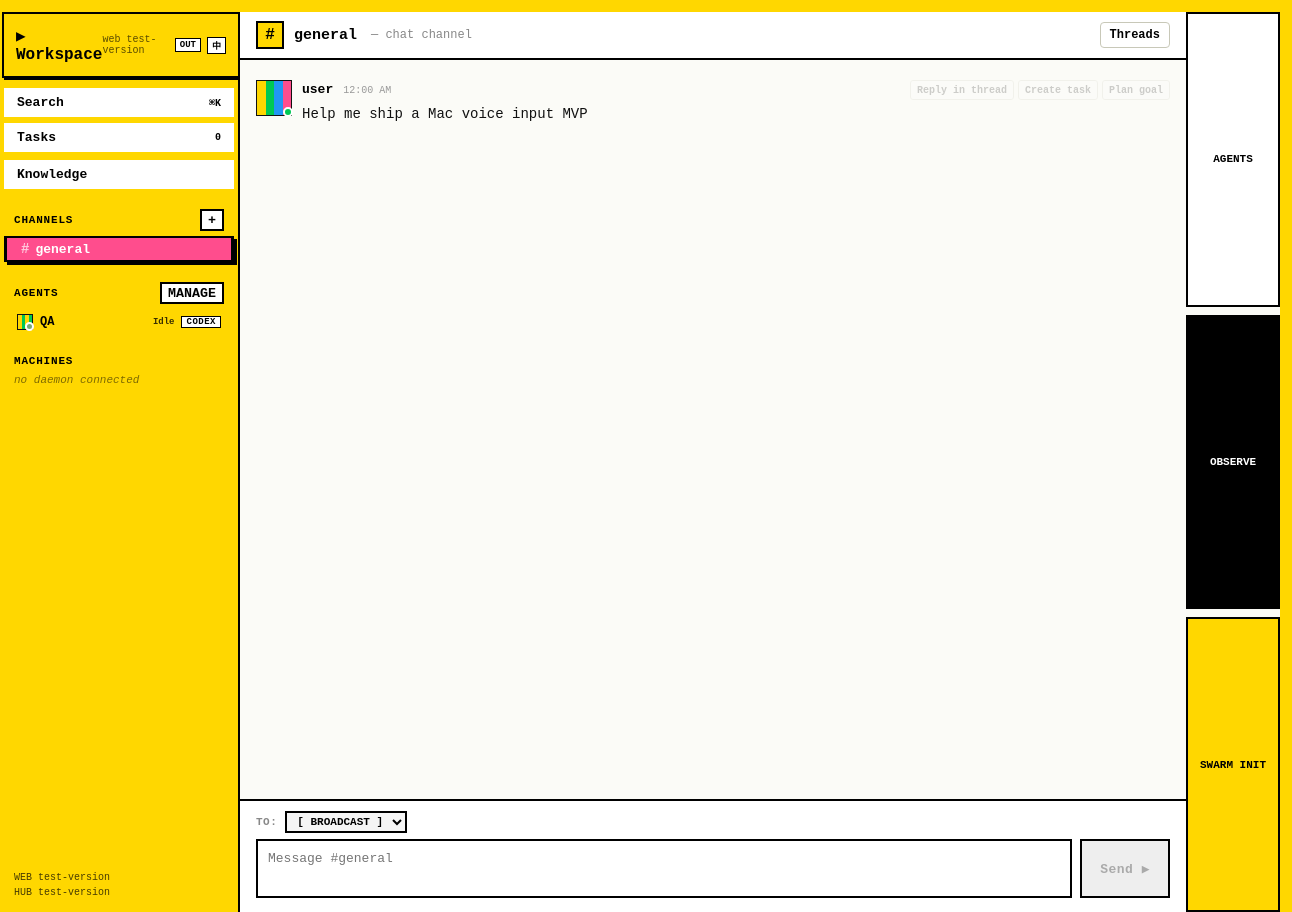
App › shows review evidence and acceptance status on the task board
Click the text "Tasks" at coordinates (36, 138), box [17,130,56,145]
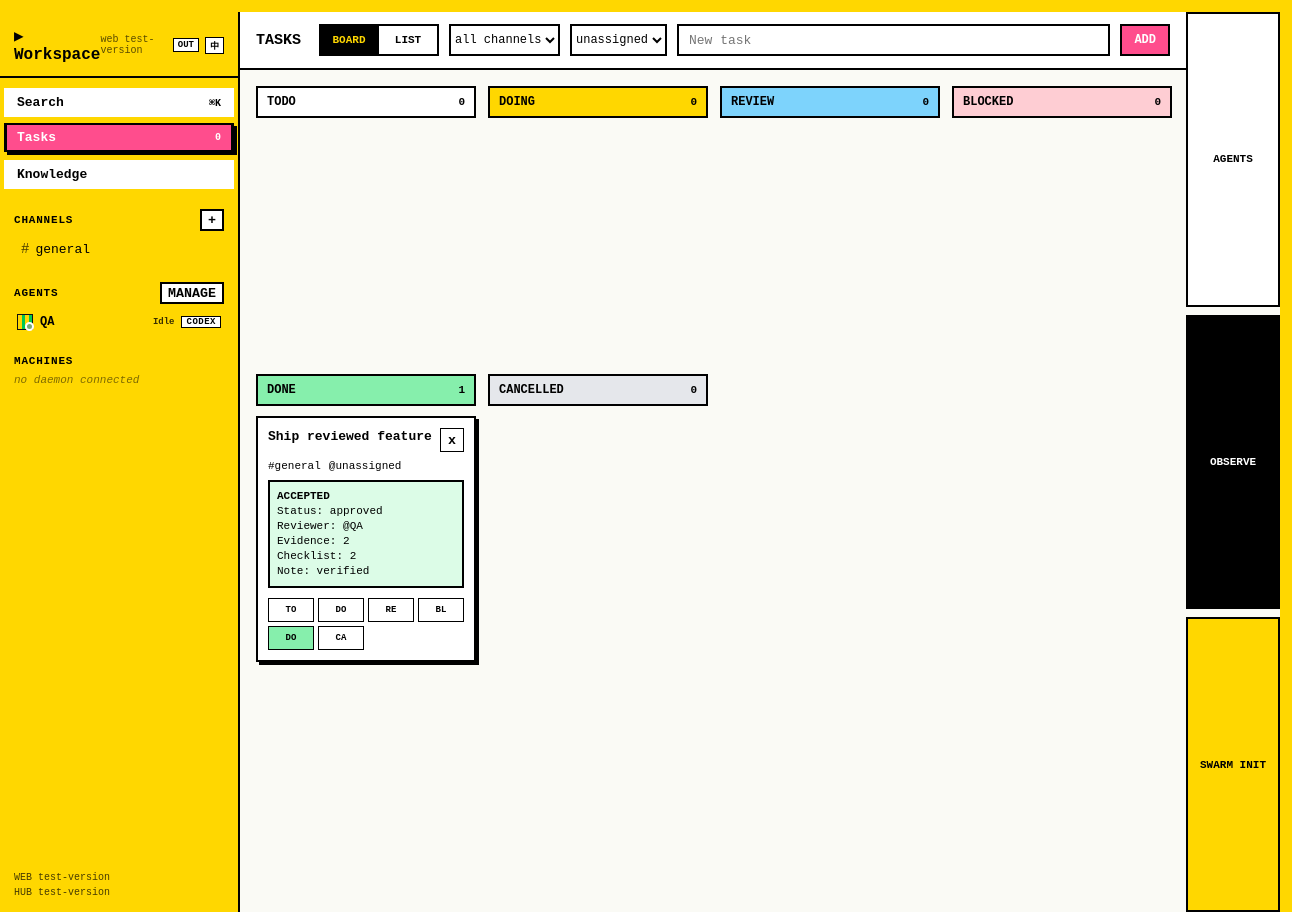
Result: the text "Ship reviewed feature" is shown at [268,428,432,447]
Result: the text "ACCEPTED" is shown at [277,490,330,502]
Result: the text "Status: approved" is shown at [277,505,383,517]
